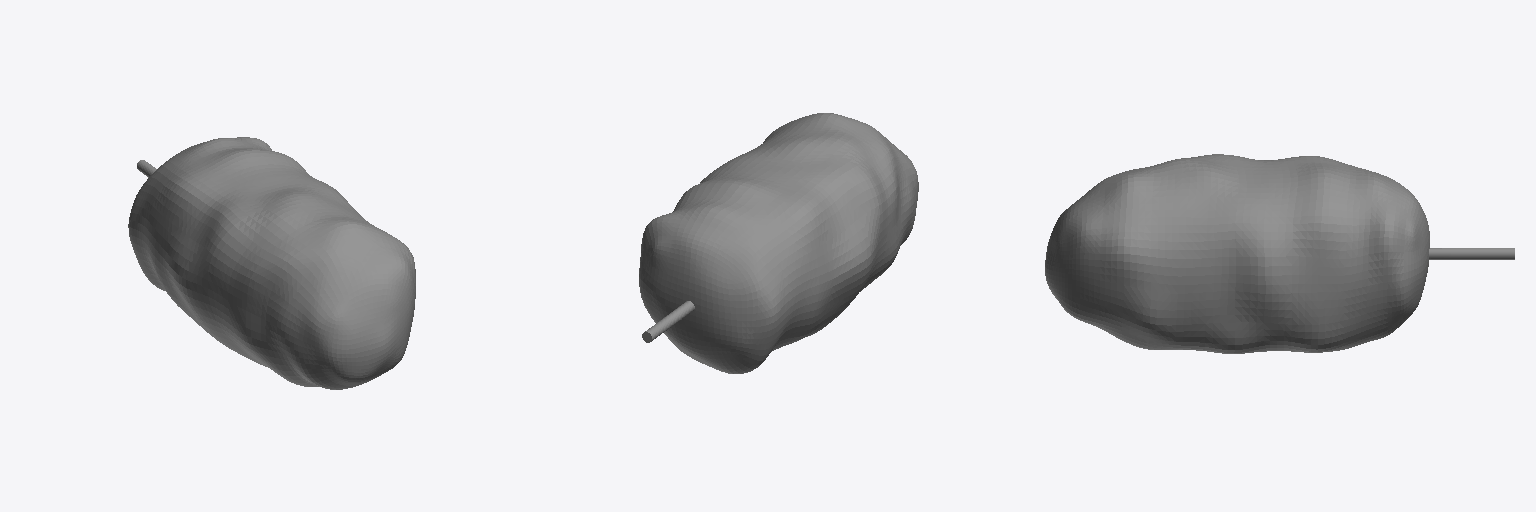
The model's file is 10459_White_Ash_Tree_v1_L3.obj.
3 renders of one model, left to right at view 1: azimuth 30°, elevation 25°; view 2: azimuth 150°, elevation 25°; view 3: azimuth 270°, elevation 25°, orthographic.
Visible parts, largest first — view 1: 10459_White_Ash_Tree_v1_SG; view 2: 10459_White_Ash_Tree_v1_SG; view 3: 10459_White_Ash_Tree_v1_SG.
Part boxes in pixels (left/top/right/bottom): 10459_White_Ash_Tree_v1_SG: left=128, top=137, right=415, bottom=389; 10459_White_Ash_Tree_v1_SG: left=639, top=113, right=918, bottom=373; 10459_White_Ash_Tree_v1_SG: left=1045, top=154, right=1514, bottom=353.
Size of the model in its own units: 252 by 241 by 592.